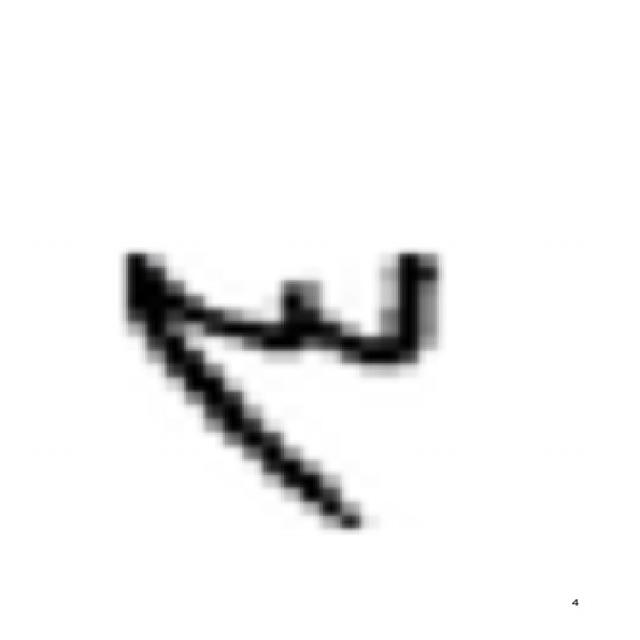3 -three-: (92, 225, 456, 548)
